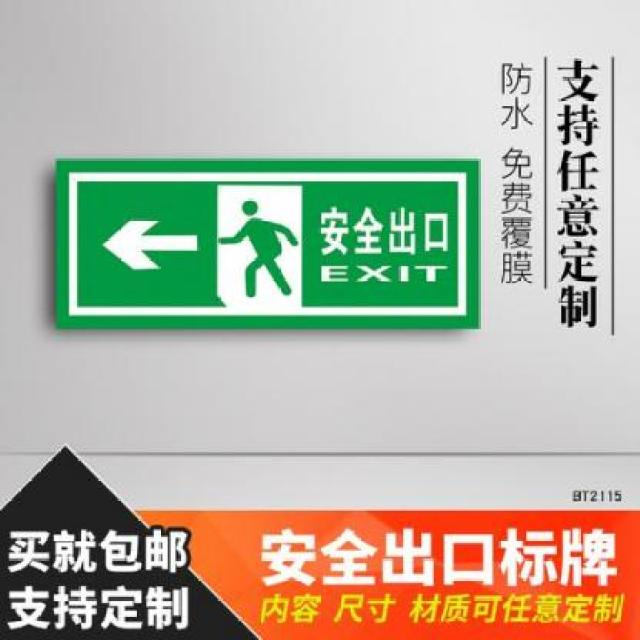exit_sign: (48, 148, 492, 348)
